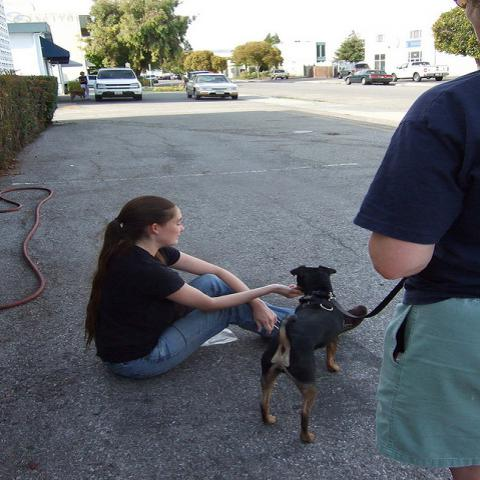car: (185, 73, 239, 100), (344, 70, 393, 86), (337, 63, 371, 79), (270, 70, 290, 80), (144, 74, 159, 84)
truck: (93, 68, 142, 100), (391, 61, 451, 82), (183, 70, 211, 87)
